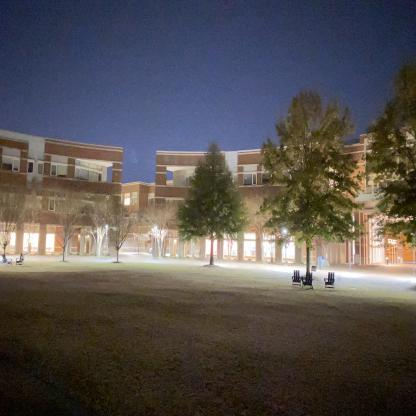eb2: (148, 137, 415, 275)
